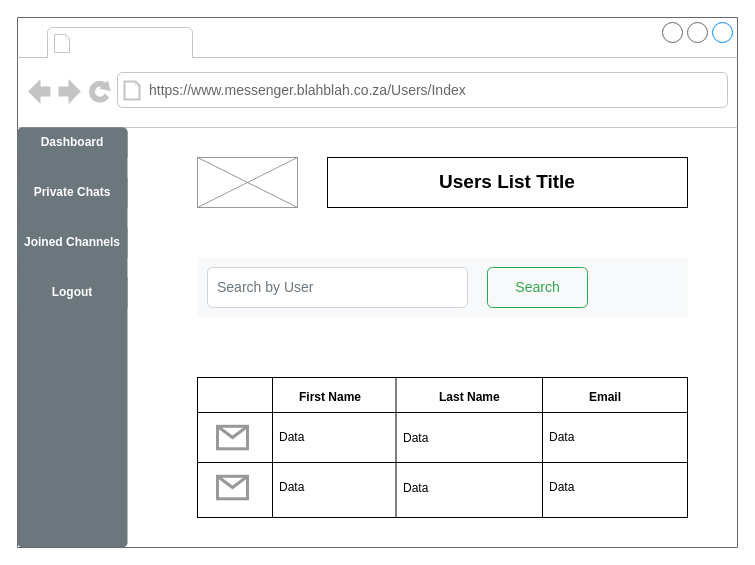
Some shapes in this 755 by 565 pixel diagram are drawn without their labels. The centre of each missing label's shape, as x and y in pixels:
"Users" belongs at point 132,42.
"Users List Icon" belongs at point 247,182.
